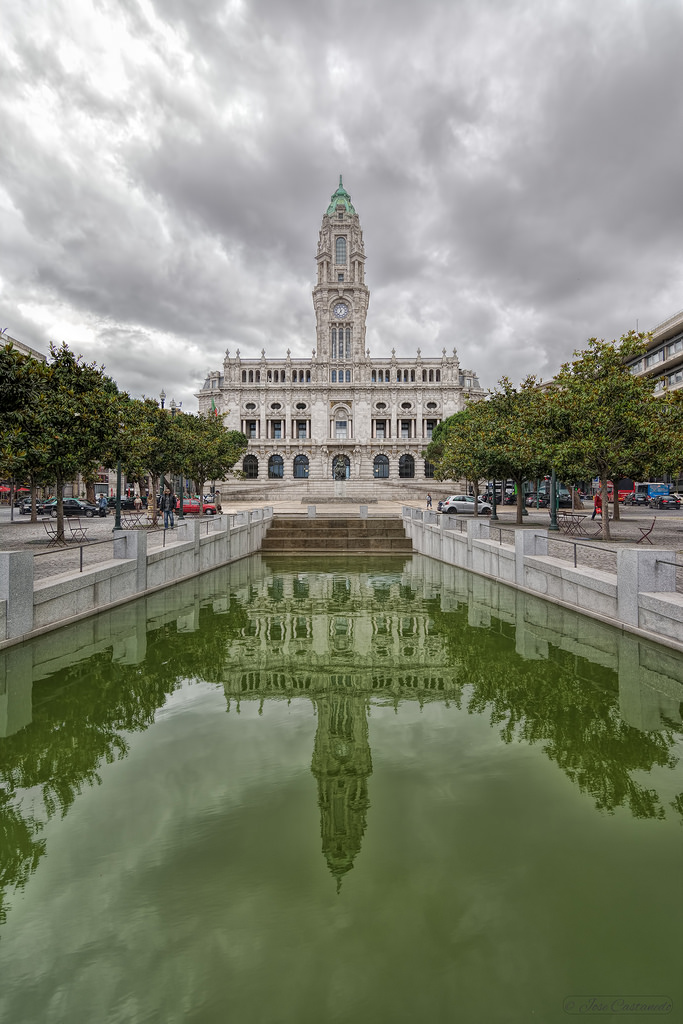camara: (195, 172, 494, 492)
